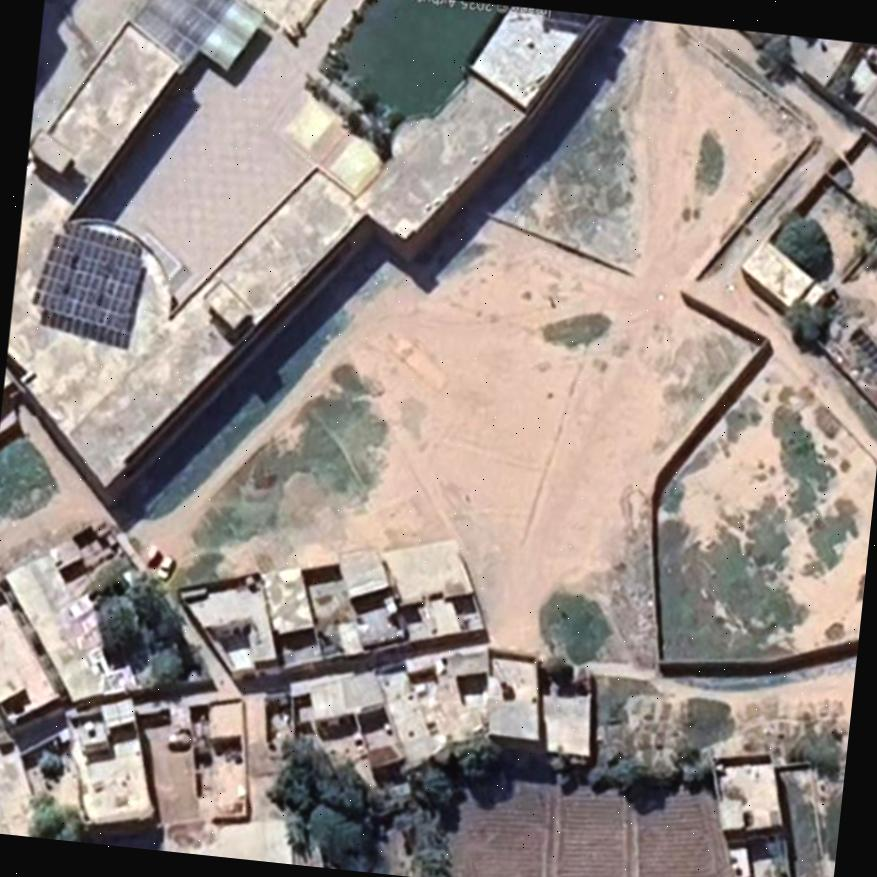Solarpanel: (38, 222, 144, 331)
